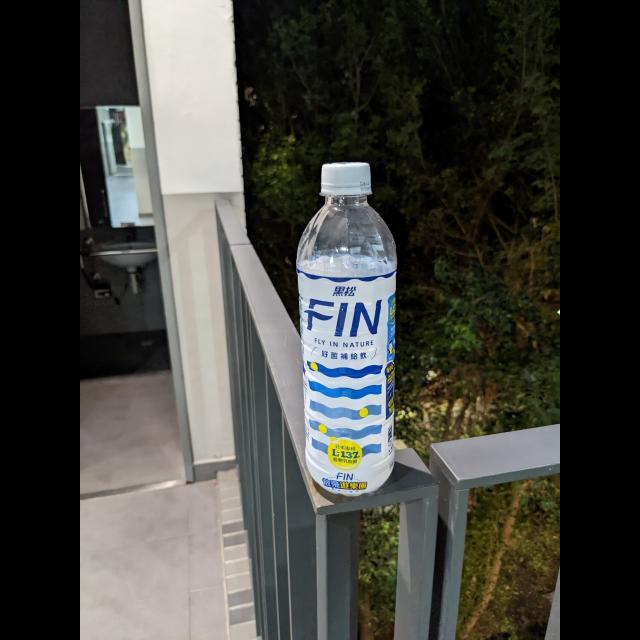trash: (292, 158, 404, 504)
